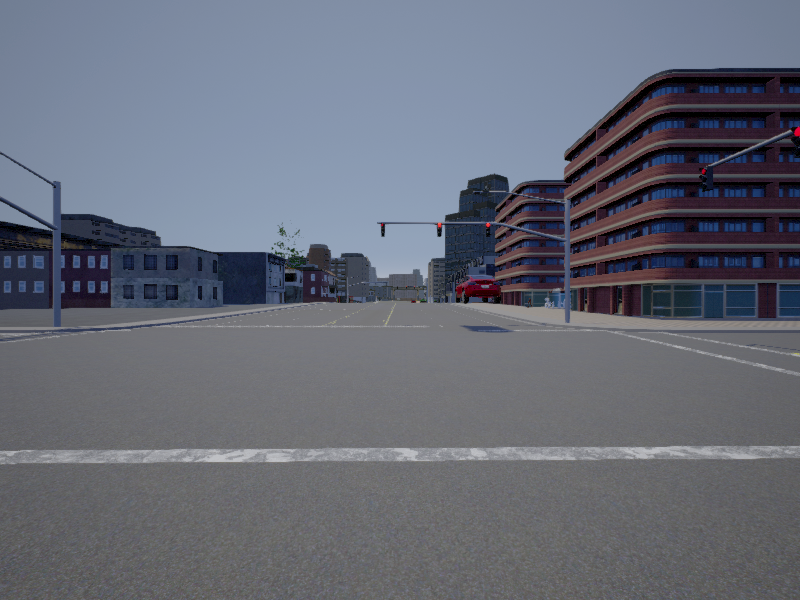Attacker: (454, 277, 503, 303)
